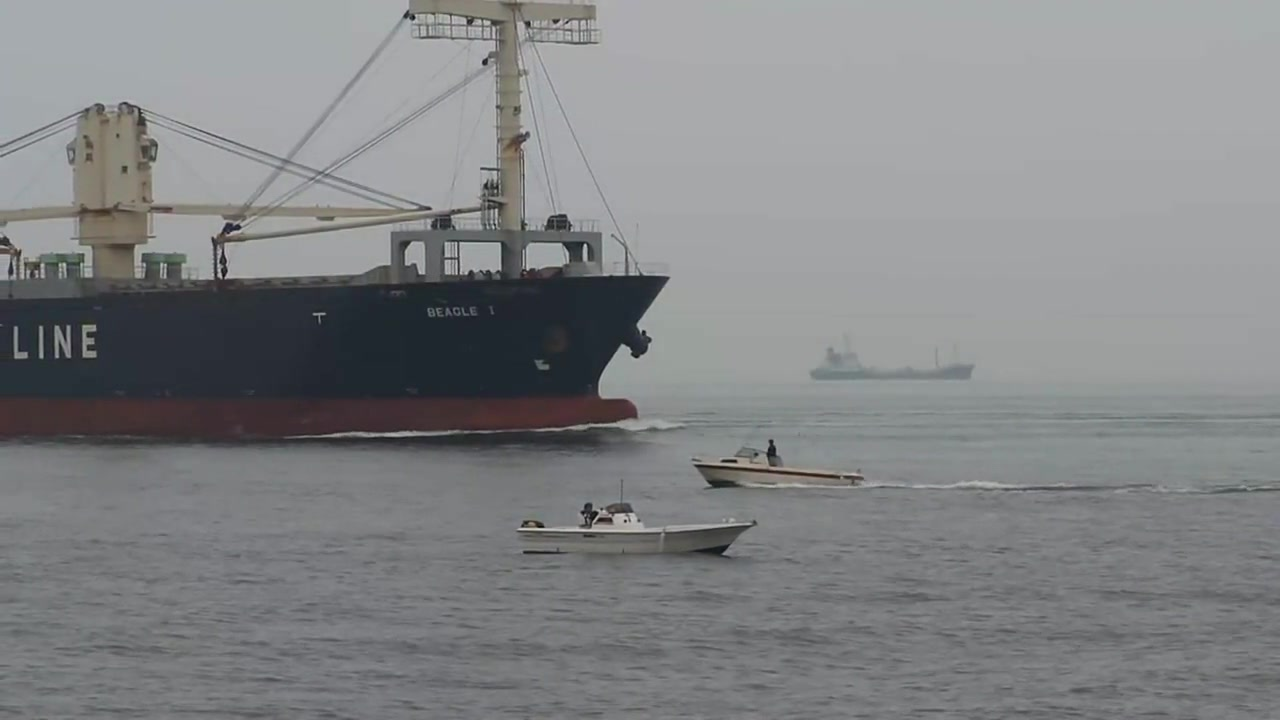boat: (1, 1, 679, 441)
